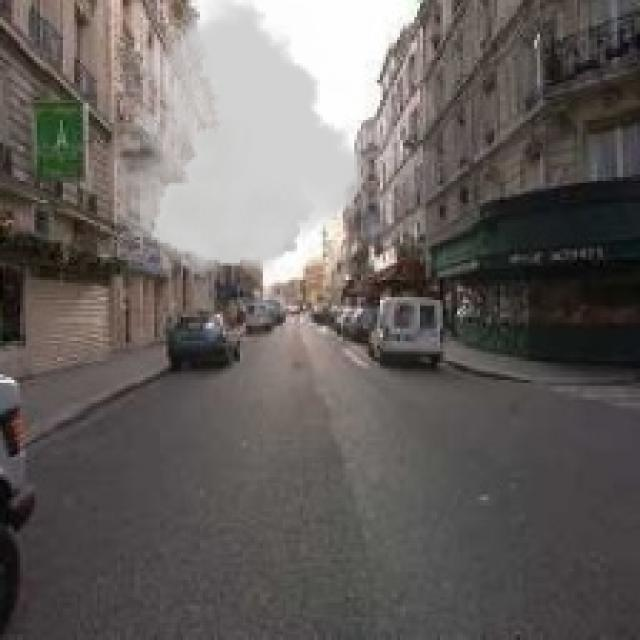smoke: (114, 0, 363, 277)
